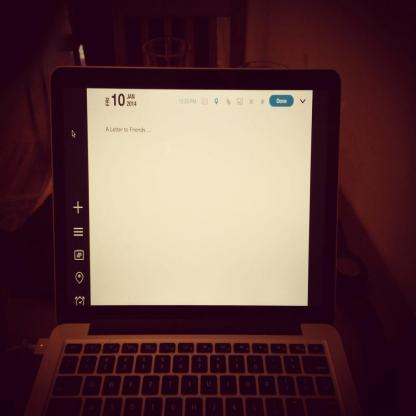board: (25, 68, 366, 416)
